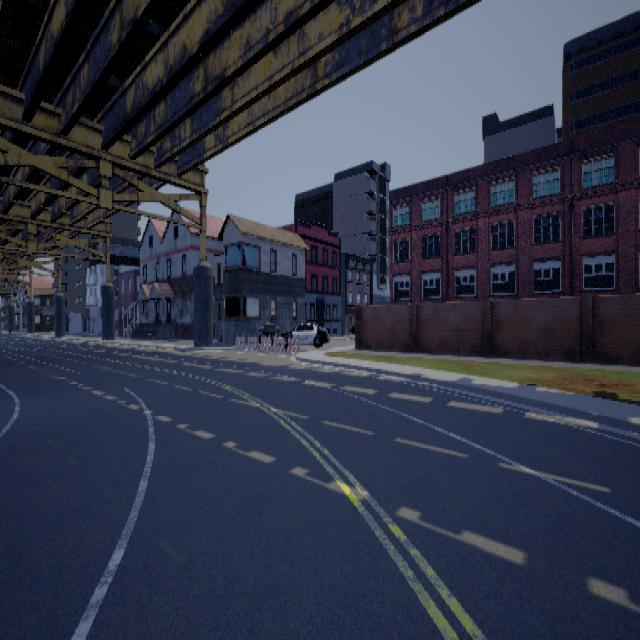vehicle: (281, 320, 331, 349)
